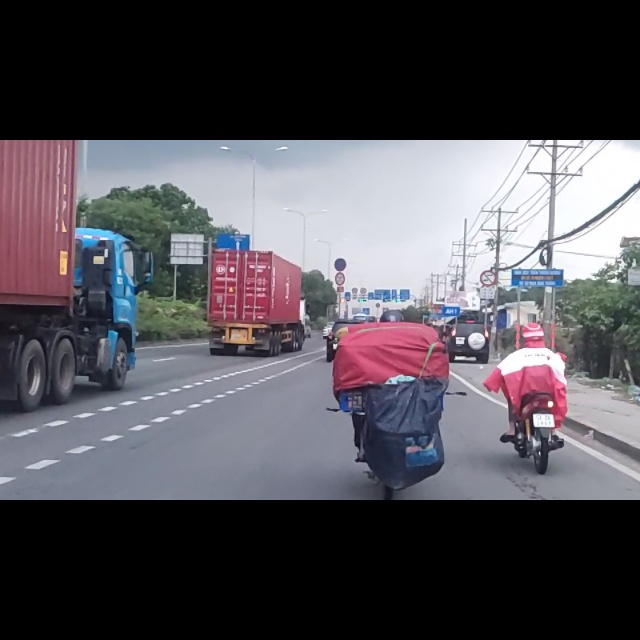bien_chi_dan: (481, 231, 496, 261), (333, 209, 347, 232), (335, 235, 345, 260)
